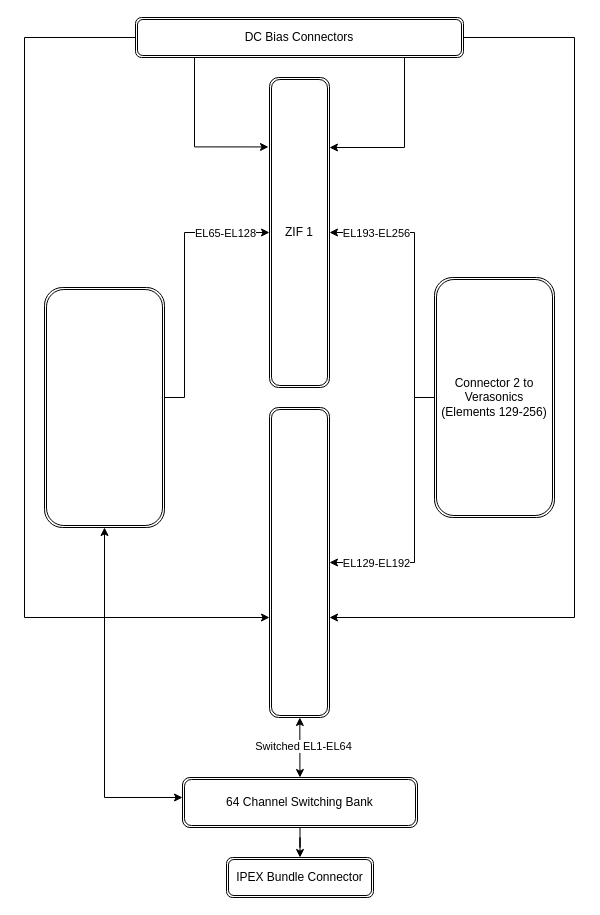
This 600x915 diagram has some shape labels left out. The centre of each missing label's shape, as x and y in pixels:
"Connector 1 to Verasonics (Elements 1-128)" goes at (x=104, y=407).
"ZIF 2" goes at (x=299, y=562).
